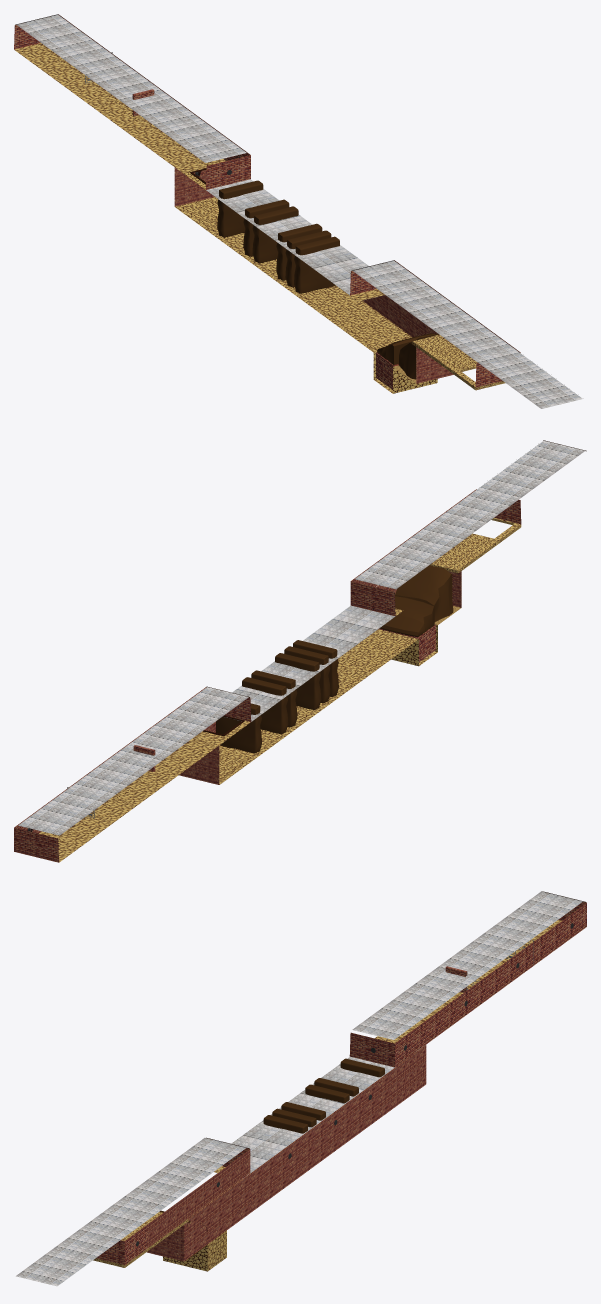
Rendered from level1.fbx.
3 renders of one model, top to bottom at view 1: azimuth 30°, elevation 25°; view 2: azimuth 150°, elevation 25°; view 3: azimuth 330°, elevation 25°, orthographic.
Parts seen in each view (by area): view 1: polySurface39, polySurface15, polySurface33, polySurface16, polySurface34, polySurface35, polySurface13, polySurface37, pCube12, pCube7, pCube9, polySurface42 (+5 smaller); view 2: polySurface39, polySurface15, polySurface33, polySurface16, polySurface34, polySurface42, polySurface41, polySurface13, polySurface38, polySurface37, polySurface35, pCube7 (+5 smaller); view 3: polySurface35, polySurface39, polySurface15, polySurface13, polySurface38, polySurface34, polySurface33, polySurface16, polySurface37.
Part boxes in pixels (x1,y1,x2,y2): polySurface39: [352, 260, 582, 408]; polySurface15: [16, 14, 246, 162]; polySurface33: [175, 197, 437, 393]; polySurface16: [14, 43, 225, 189]; polySurface34: [206, 179, 376, 297]; polySurface35: [174, 167, 453, 383]; polySurface13: [14, 14, 250, 189]; polySurface37: [350, 289, 505, 390]; pCube12: [294, 236, 339, 293]; pCube7: [217, 180, 263, 237]; pCube9: [252, 206, 298, 263]; polySurface42: [376, 333, 435, 389]; polySurface39: [355, 441, 584, 589]; polySurface15: [18, 687, 248, 835]; polySurface33: [219, 606, 460, 784]; polySurface16: [39, 720, 250, 862]; polySurface34: [223, 605, 395, 721]; polySurface42: [378, 596, 435, 662]; polySurface41: [395, 565, 453, 621]; polySurface13: [14, 687, 251, 862]; polySurface38: [350, 489, 521, 616]; polySurface37: [395, 518, 521, 615]; polySurface35: [179, 571, 461, 784]; pCube7: [216, 703, 261, 753]; polySurface35: [147, 1045, 426, 1261]; polySurface39: [16, 1138, 245, 1286]; polySurface15: [352, 891, 582, 1039]; polySurface13: [349, 902, 586, 1067]; polySurface38: [96, 1148, 250, 1265]; polySurface34: [231, 1045, 425, 1178]; polySurface33: [163, 1181, 239, 1271]; polySurface16: [375, 920, 561, 1043]; polySurface37: [93, 1166, 225, 1267].
Size of the model in its own units: 2.25 by 4.61 by 45.14.
11 materials, 5 textured.
